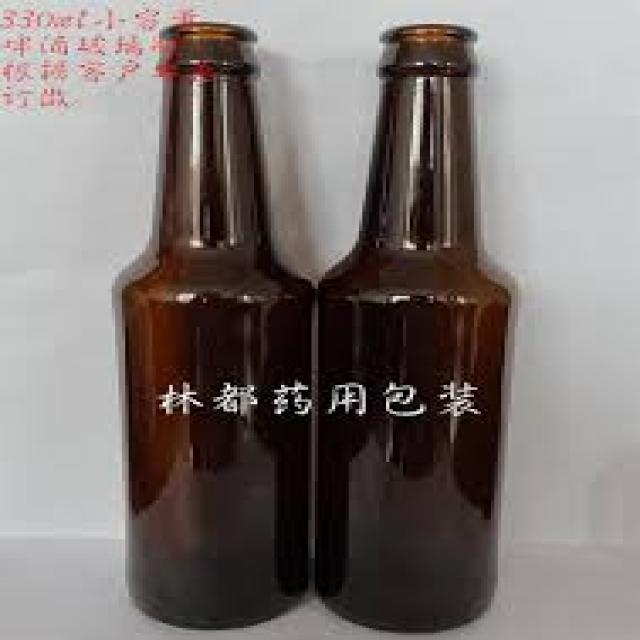glass: (122, 22, 508, 630)
